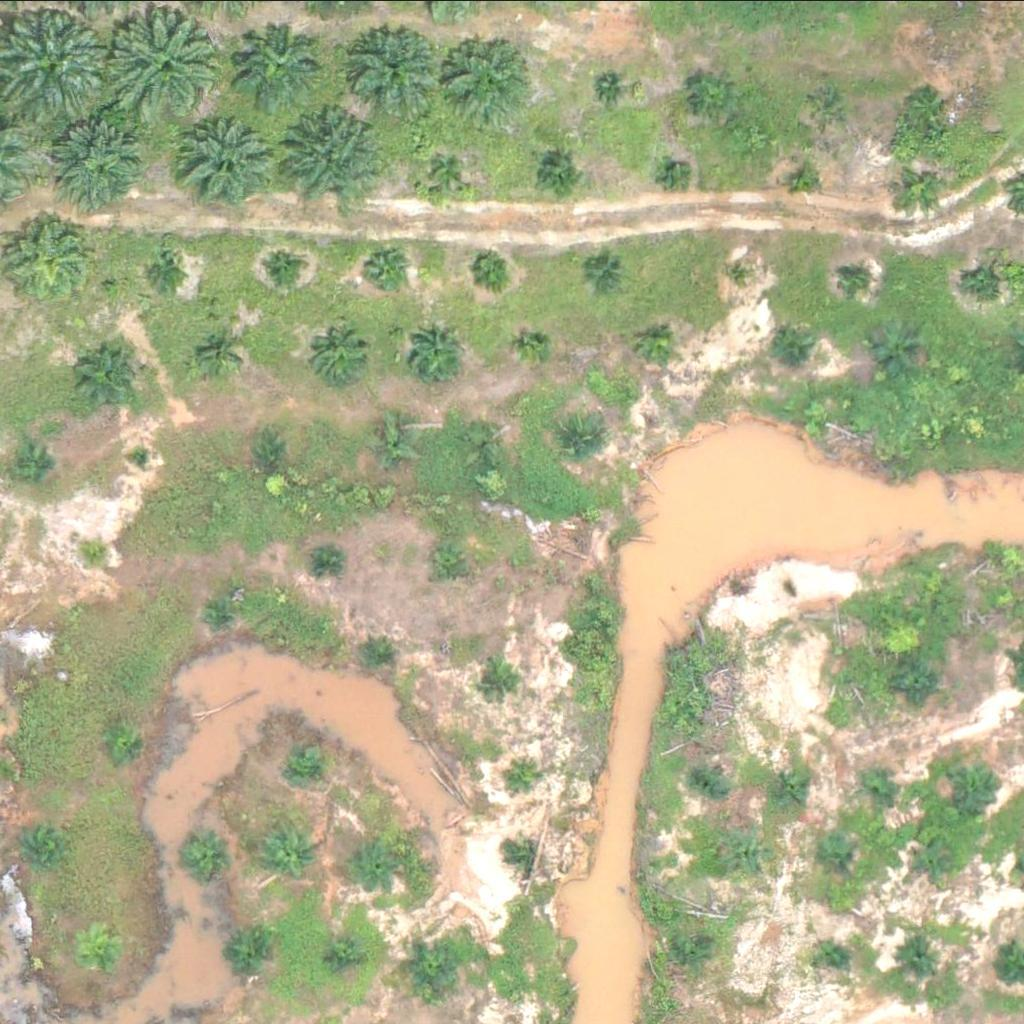Kelapa_Sawit: (109, 4, 234, 129), (54, 108, 155, 208), (182, 111, 283, 211), (284, 103, 385, 203), (442, 35, 530, 123), (350, 23, 438, 111), (237, 16, 325, 104), (81, 348, 144, 411), (408, 322, 471, 384), (403, 931, 465, 993), (81, 925, 132, 975), (182, 830, 233, 880), (902, 77, 953, 127), (311, 331, 362, 381), (896, 164, 947, 214), (635, 318, 686, 368), (368, 415, 419, 465), (946, 757, 996, 807), (221, 932, 271, 982), (266, 825, 316, 875), (352, 839, 402, 889), (967, 256, 1017, 306), (691, 69, 741, 119), (531, 150, 581, 200), (875, 322, 925, 372), (895, 653, 945, 703), (422, 147, 472, 197), (358, 242, 408, 292), (776, 330, 814, 368), (253, 437, 291, 475), (78, 534, 116, 572), (323, 932, 361, 970), (147, 243, 185, 281), (812, 931, 850, 969), (854, 763, 892, 801), (767, 763, 805, 801), (692, 764, 730, 802), (290, 745, 328, 782), (813, 86, 850, 124), (520, 327, 557, 365), (264, 250, 302, 287), (197, 332, 235, 369), (308, 537, 345, 575), (483, 662, 521, 699), (466, 420, 503, 458), (468, 248, 506, 285), (17, 451, 55, 488), (507, 758, 545, 795), (896, 935, 933, 973), (692, 921, 730, 958), (729, 836, 767, 873), (821, 831, 859, 868), (917, 841, 955, 878), (28, 828, 65, 865), (592, 252, 629, 289), (564, 420, 601, 457), (356, 640, 393, 677), (434, 543, 471, 580), (101, 723, 138, 760), (199, 592, 236, 629), (513, 847, 539, 872), (662, 163, 687, 188), (792, 170, 817, 195), (731, 258, 756, 283), (843, 264, 868, 289), (127, 444, 152, 469), (598, 76, 623, 100)
